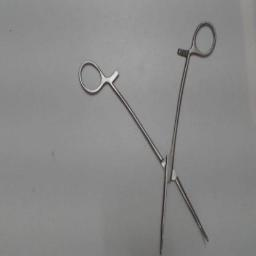Lahey Forceps: (72, 15, 220, 255)
